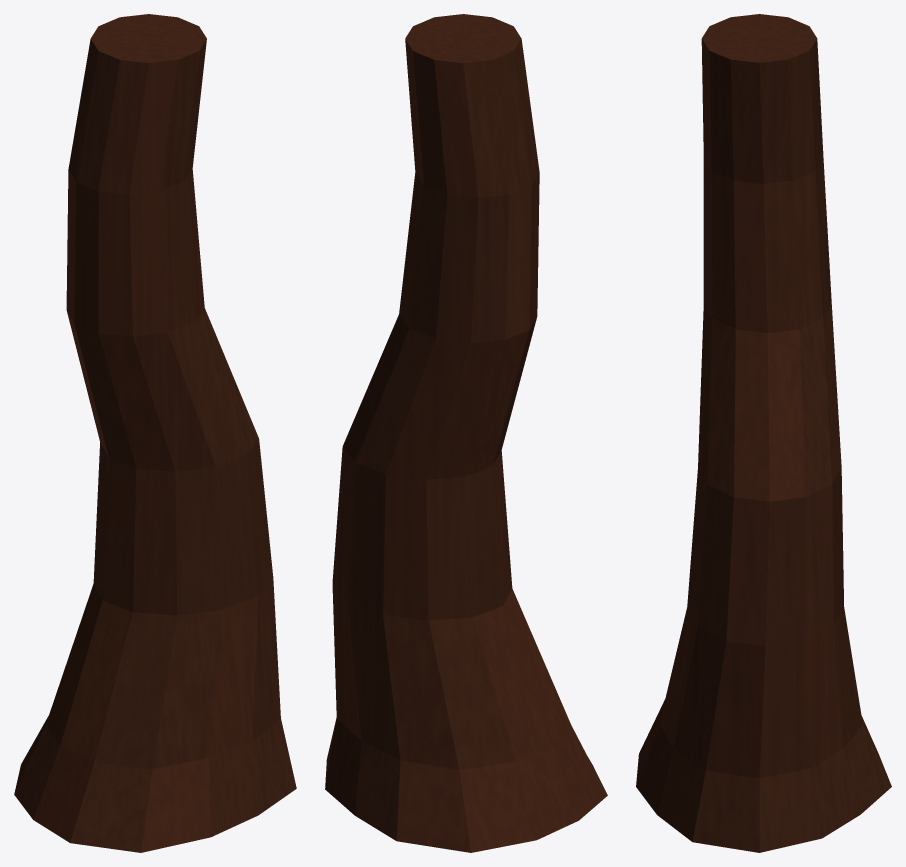
File: TX_N02_Trunk.fbx
The picture shows the model from 3 angles, left to right: view 1: azimuth 30°, elevation 25°; view 2: azimuth 150°, elevation 25°; view 3: azimuth 270°, elevation 25°; orthographic projection.
Parts seen in each view (by area): view 1: TX_N02_Trunk; view 2: TX_N02_Trunk; view 3: TX_N02_Trunk.
Boxes of the visible parts, bbox=[...] form: TX_N02_Trunk: bbox=[14, 14, 296, 852]; TX_N02_Trunk: bbox=[325, 14, 607, 852]; TX_N02_Trunk: bbox=[636, 14, 891, 852].
Bounding box in the file's own units: 0.7 × 2 × 0.62.
Materials: 1 (1 with a texture image).
